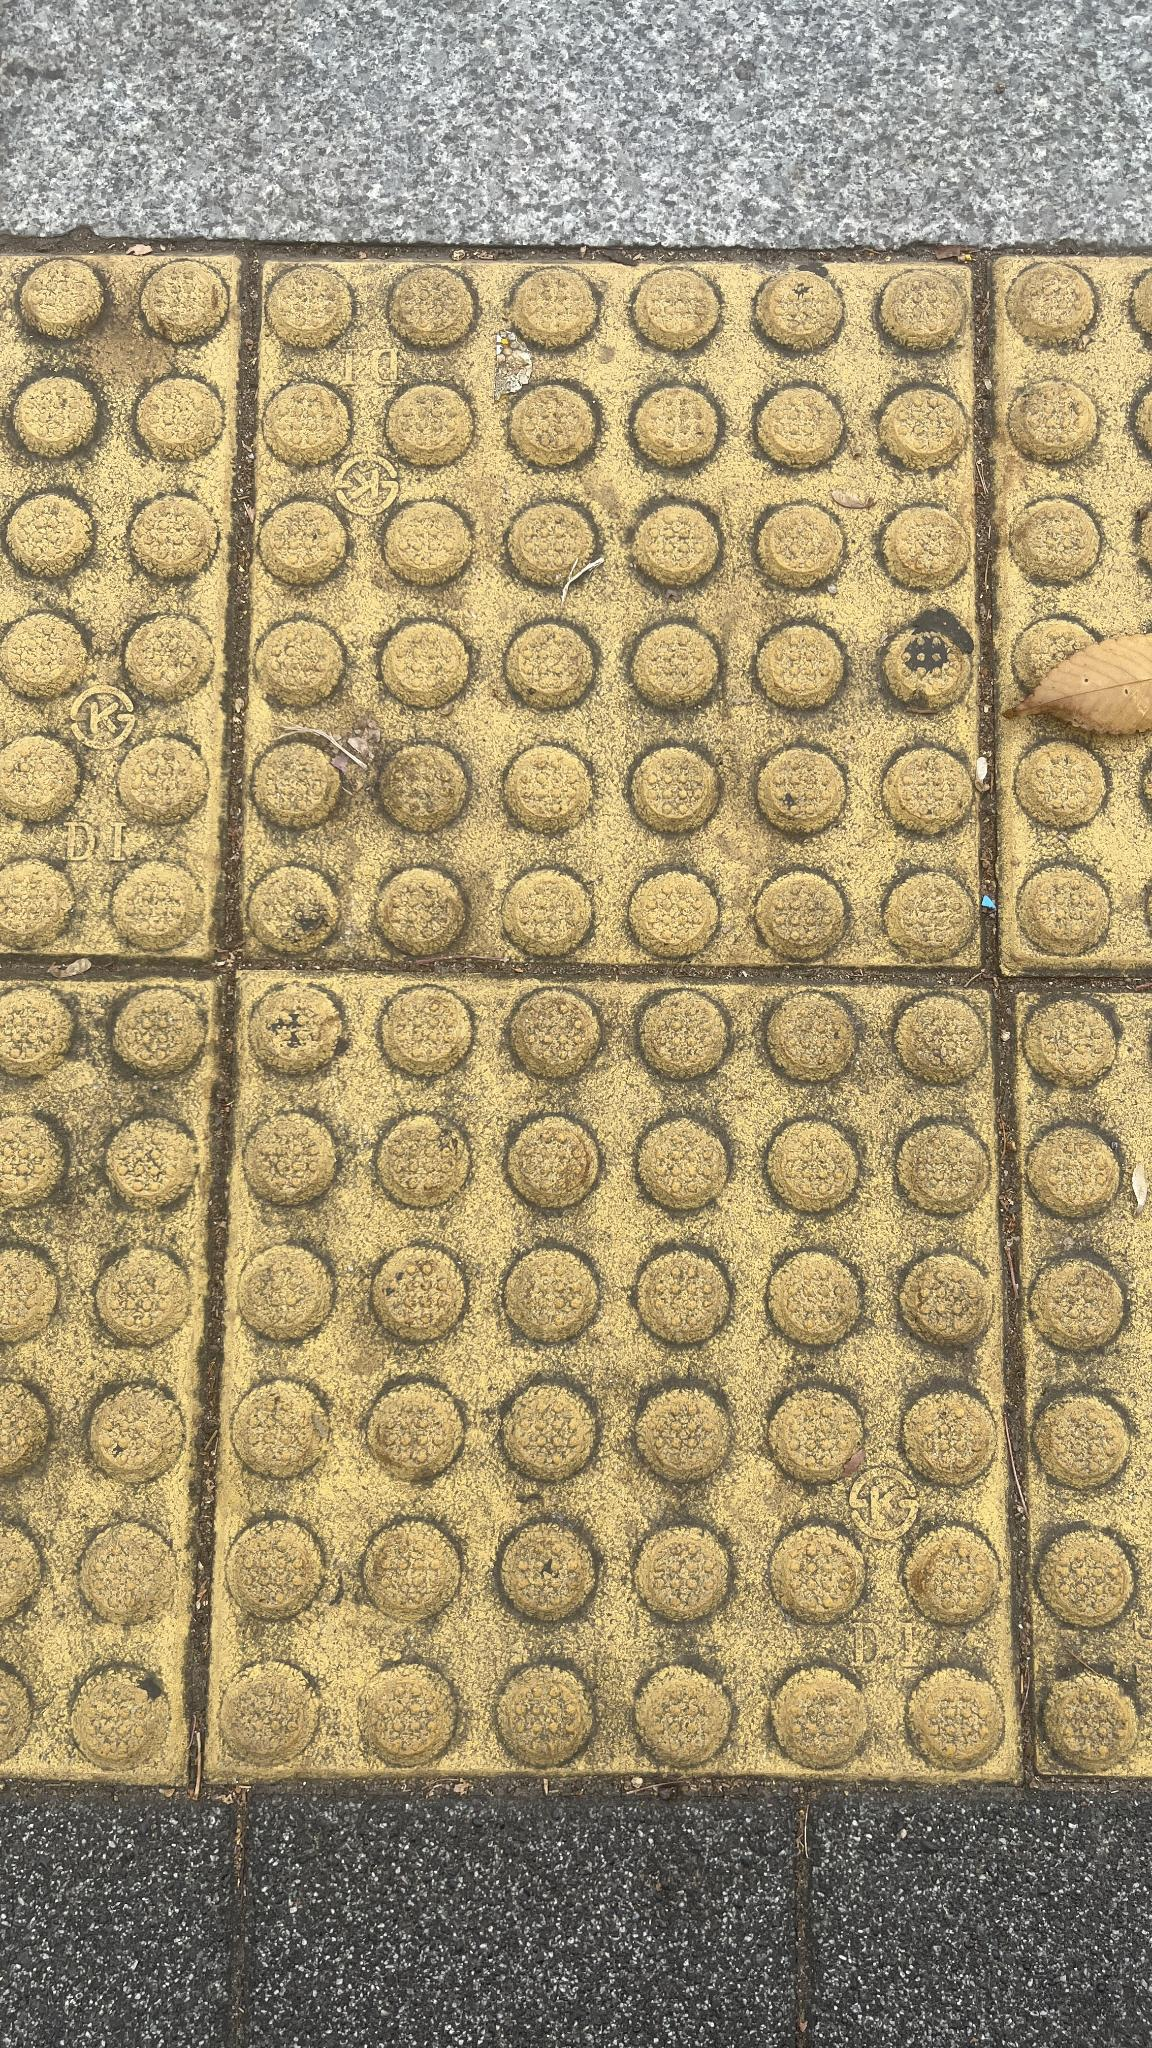Stop block normal: (236, 983, 993, 1771), (256, 263, 969, 961)
